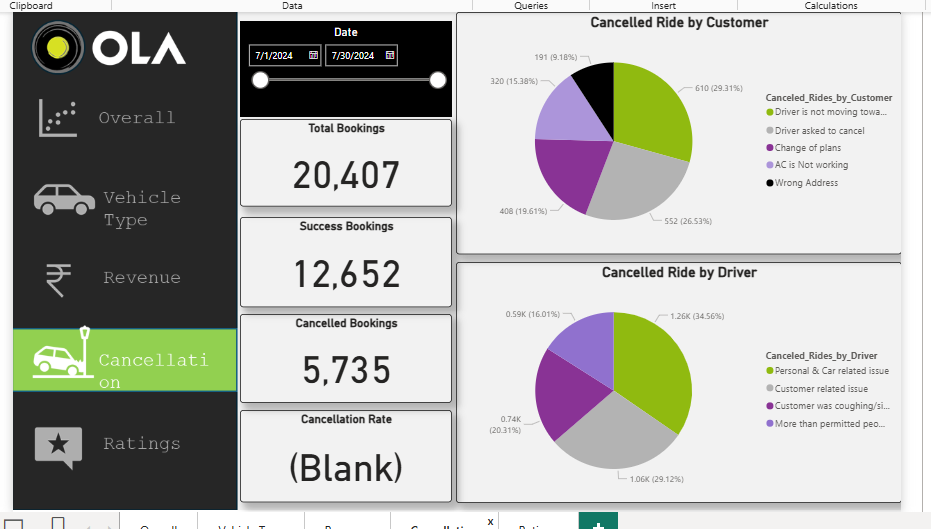

The page's visual inventory and layout, read from the dashboard file:
{"tool":"powerbi","page":{"name":"Cancellation","canvas":[1280,720],"ordinal":3},"visuals":[{"type":"actionButton","box":[0,217.4,326.9,93.6],"z":0},{"type":"actionButton","box":[0,341.3,326.9,93.6],"z":1000},{"type":"actionButton","box":[0,574.6,326.9,93.6],"z":2000},{"type":"actionButton","box":[0,102.2,326.9,93.6],"z":3000},{"type":"pieChart","title":"Cancelled  Ride by Customer","fields":{"Category":["July.Canceled_Rides_by_Customer"],"Y":["CountNonNull(July.Canceled_Rides_by_Customer)"]},"box":[638.6,0,642.1,349.1],"z":4000},{"type":"pieChart","title":"Cancelled Ride by Driver","fields":{"Category":["July.Canceled_Rides_by_Driver"],"Y":["CountNonNull(July.Canceled_Rides_by_Driver)"]},"box":[638.6,359.6,642.1,347.4],"z":5000},{"type":"slicer","title":"Date","fields":{"Values":["July.Date"]},"box":[326.3,12.3,305.3,136.8],"z":6000},{"type":"card","title":"Total Bookings","fields":{"Values":["Count(July.Booking_ID)"]},"box":[326.3,154.4,305.3,126.3],"z":7000},{"type":"card","title":"Success Bookings","fields":{"Values":["Count(July.Booking_ID)"]},"box":[326.3,294.7,305.3,129.8],"z":8000},{"type":"card","title":"Cancelled  Bookings","fields":{"Values":["Count(July.Booking_ID)"]},"box":[326.3,435.1,305.3,128.1],"z":9000},{"type":"card","title":"Cancellation Rate","fields":{"Values":["July.CancelledBookings"]},"box":[326.3,573.7,305.3,133.3],"z":10000}]}

Visuals, with their boxes on the page's 1280x720 design canvas (x1, y1, x2, y2). These are canvas units, not pixel positions in the 931x529 screenshot, which may show the page scaled, cropped or inside an application window:
actionButton: region(0, 217, 327, 311)
actionButton: region(0, 341, 327, 435)
actionButton: region(0, 575, 327, 668)
actionButton: region(0, 102, 327, 196)
"Cancelled  Ride by Customer" pieChart: region(639, 0, 1281, 349)
"Cancelled Ride by Driver" pieChart: region(639, 360, 1281, 707)
"Date" slicer: region(326, 12, 632, 149)
"Total Bookings" card: region(326, 154, 632, 281)
"Success Bookings" card: region(326, 295, 632, 424)
"Cancelled  Bookings" card: region(326, 435, 632, 563)
"Cancellation Rate" card: region(326, 574, 632, 707)
